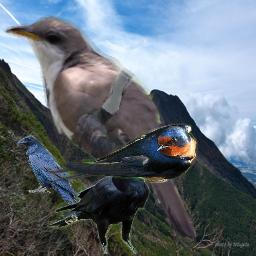Crow: (47, 158, 168, 254), (16, 135, 84, 209)
Cuckoo: (1, 12, 196, 246)
Swallow: (47, 123, 198, 183)
